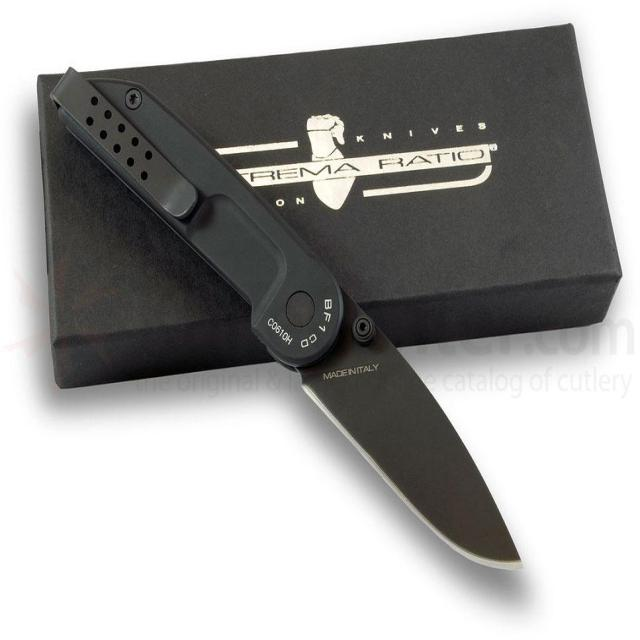knife: (56, 65, 536, 584)
